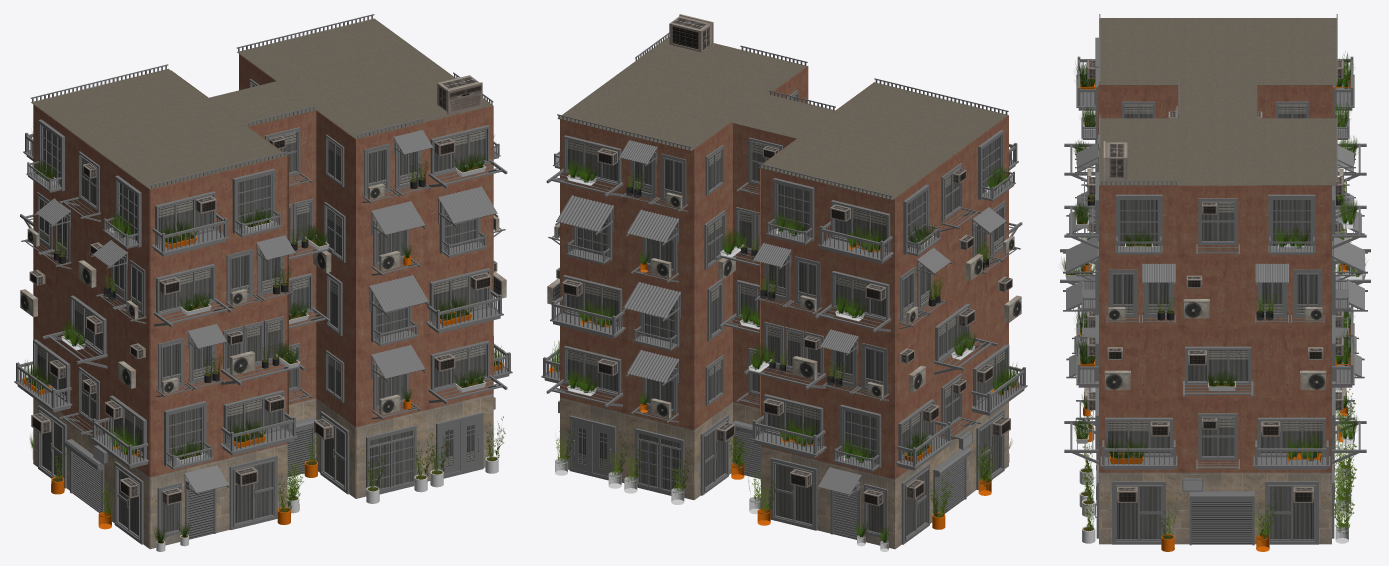
The model's file is bldg_03_red_brick_grand.glb.
The picture shows the model from 3 angles, left to right: view 1: azimuth 30°, elevation 25°; view 2: azimuth 150°, elevation 25°; view 3: azimuth 270°, elevation 25°; orthographic projection. The views are drawn at different scales.
Parts seen in each view (by area): view 1: bldg_03_red_brick_grand; view 2: bldg_03_red_brick_grand; view 3: bldg_03_red_brick_grand.
Boxes of the visible parts, <box> form: bldg_03_red_brick_grand: <box>14,14,512,551</box>; bldg_03_red_brick_grand: <box>541,14,1027,551</box>; bldg_03_red_brick_grand: <box>1060,14,1370,551</box>.
Size of the model in its own units: 11.78 by 10.66 by 8.05.
Materials: 6 (6 with a texture image).
